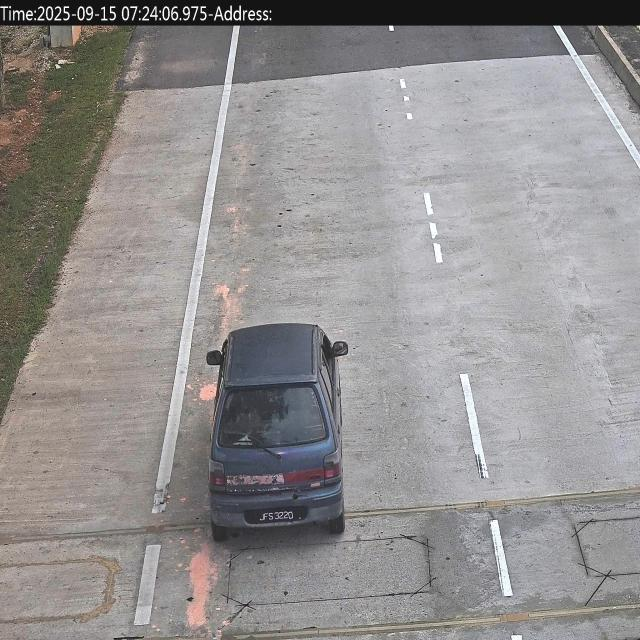back: (242, 509, 316, 533)
